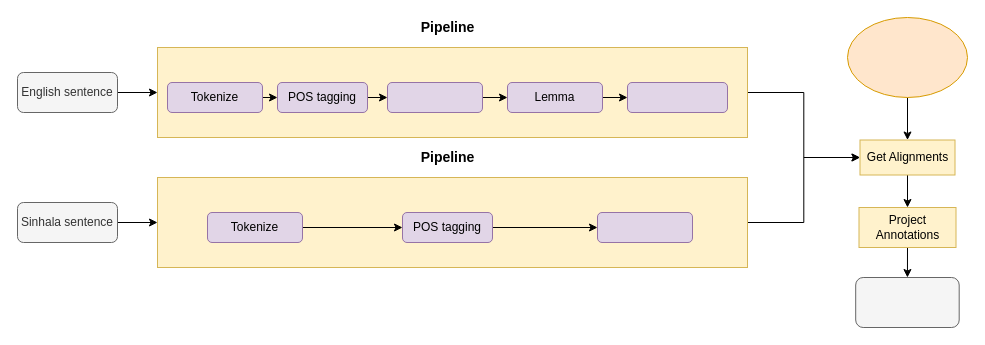
Image size: 985x345. Some labels were removed from this diagram. Each missing label, with the box of its shape:
English Sinhala Word mapping: (846, 16, 968, 98)
NER: (386, 82, 482, 112)
Semantic Role labelling: (626, 82, 728, 112)
Semantically tagged Sinhala Sentence: (855, 276, 959, 328)
WordSplitter: (596, 212, 692, 242)
